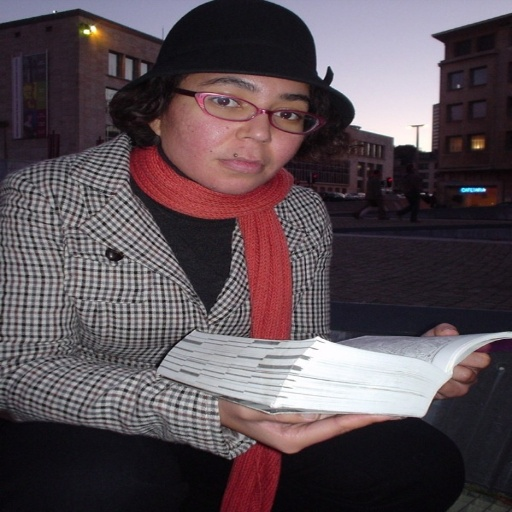hand: (205, 400, 403, 463), (416, 320, 488, 399)
